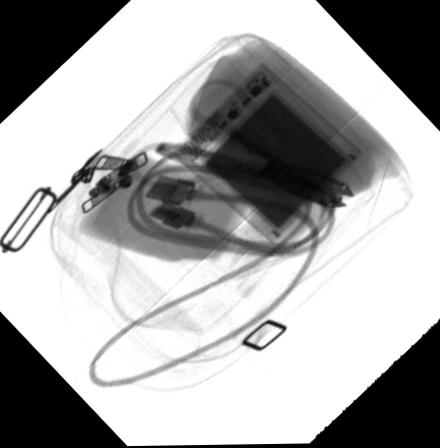Powerbank: (163, 60, 365, 246)
Scissors: (135, 74, 357, 214)
